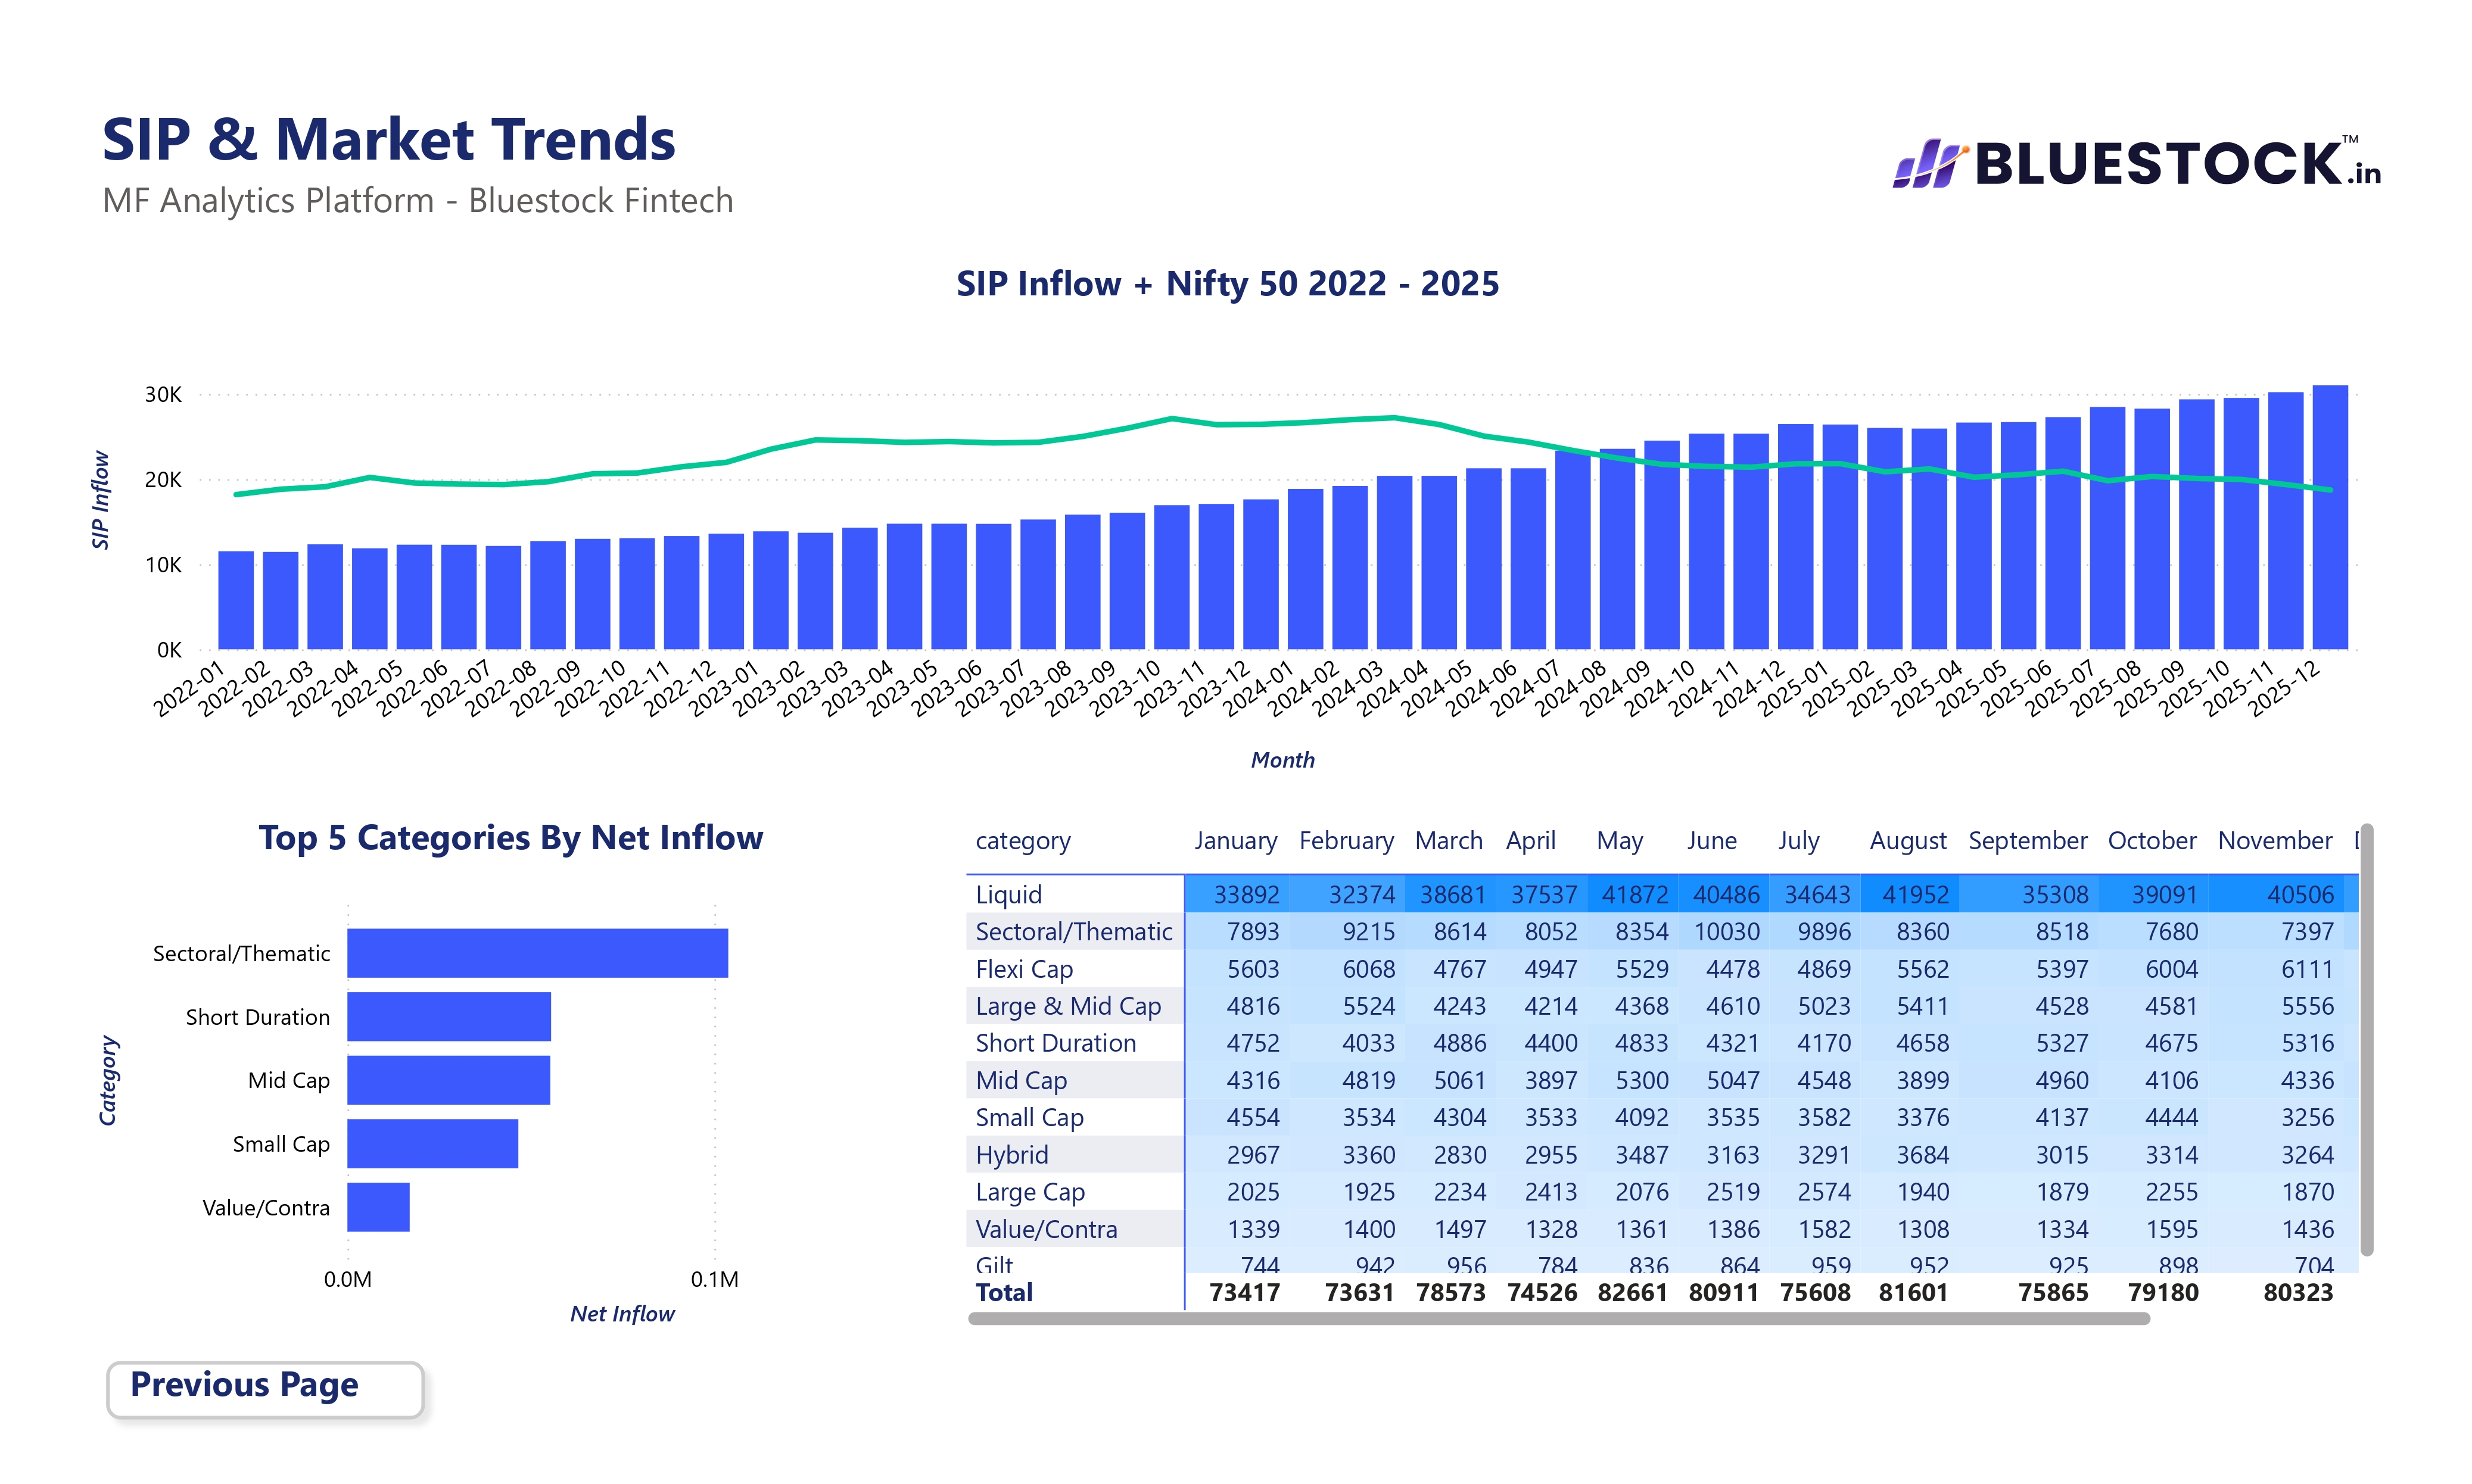

The page's visual inventory and layout, read from the dashboard file:
{"tool":"powerbi","page":{"name":"SIP & Market Trends","canvas":[1280,750],"ordinal":3},"visuals":[{"type":"pivotTable","title":"SIP Inflow vs Nifty 50","fields":{"Columns":["05_category_inflows_cleaned.month.Variation.Date Hierarchy.Month"],"Rows":["05_category_inflows_cleaned.category"],"Values":["Sum(05_category_inflows_cleaned.net_inflow_crore)"]},"box":[490,413.3,768.3,282],"z":0},{"type":"barChart","title":"Top 5 Categories By Net Inflow","fields":{"Category":["05_category_inflows_cleaned.category"],"Y":["Sum(05_category_inflows_cleaned.net_inflow_crore)"]},"box":[23.3,413.3,453.3,281.7],"z":1000},{"type":"lineStackedColumnComboChart","title":"SIP Inflow + Nifty 50 2022 - 2025","fields":{"Category":["fact_sip.month"],"Y":["Sum(fact_sip.sip_inflow_crore)"],"Y2":["Sum(fact_sip.nifty50_monthly.nifty50_avg)"]},"box":[19.4,115,1233.3,282],"z":2000},{"type":"image","box":[991.7,10,266.7,105],"z":3000},{"type":"textbox","box":[25,21.7,500,83.3],"z":4000},{"type":"shape","box":[24,700,188,48],"z":5000},{"type":"textbox","box":[40,702,154,42],"z":6000},{"type":"actionButton","box":[33,709,172,35],"z":7000}]}

Visuals, with their boxes on the page's 1280x750 design canvas (x1, y1, x2, y2). These are canvas units, not pixel positions in the 2472x1484 screenshot, which may show the page scaled, cropped or inside an application window:
"SIP Inflow vs Nifty 50" pivotTable: <region>490, 413, 1258, 695</region>
"Top 5 Categories By Net Inflow" barChart: <region>23, 413, 477, 695</region>
"SIP Inflow + Nifty 50 2022 - 2025" lineStackedColumnComboChart: <region>19, 115, 1253, 397</region>
image: <region>992, 10, 1258, 115</region>
textbox: <region>25, 22, 525, 105</region>
shape: <region>24, 700, 212, 748</region>
textbox: <region>40, 702, 194, 744</region>
actionButton: <region>33, 709, 205, 744</region>
